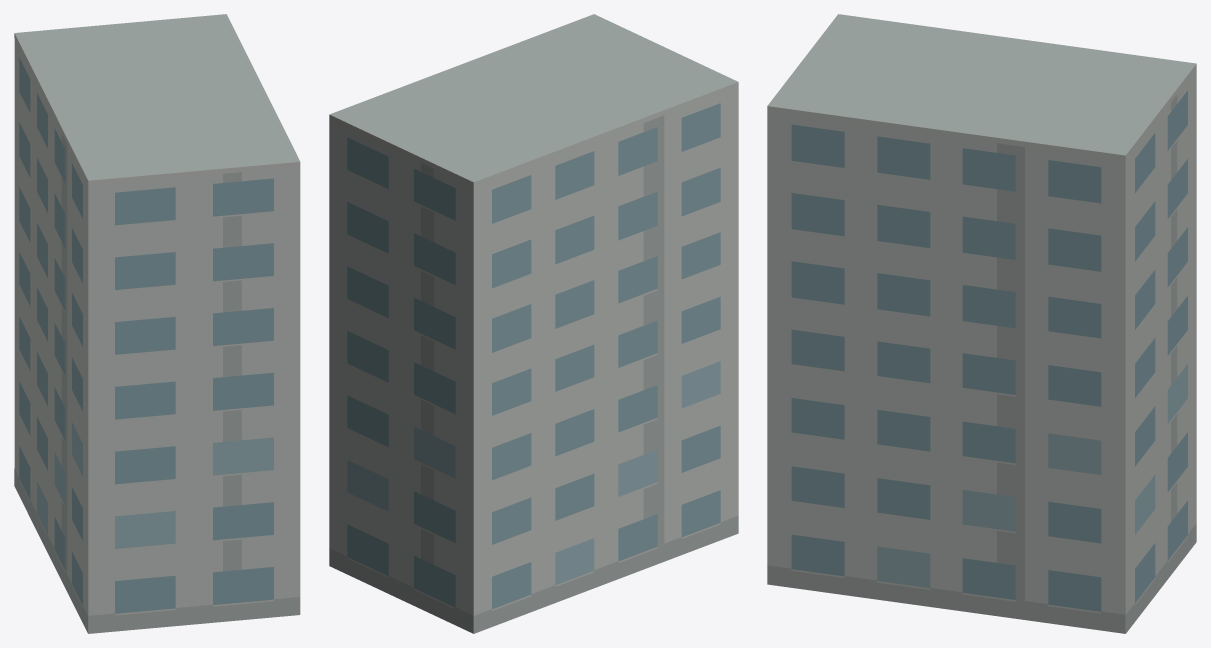
File: survey-upis-32696480.glb
The picture shows the model from 3 angles, left to right: view 1: azimuth 30°, elevation 25°; view 2: azimuth 150°, elevation 25°; view 3: azimuth 270°, elevation 25°; orthographic projection. The views are drawn at different scales.
Parts seen in each view (by area): view 1: survey-upis-32696480.tmp; view 2: survey-upis-32696480.tmp; view 3: survey-upis-32696480.tmp.
Part boxes in pixels (x1,y1,x2,y2): survey-upis-32696480.tmp: (14,14,300,633); survey-upis-32696480.tmp: (329,14,738,633); survey-upis-32696480.tmp: (767,14,1196,633).
Size of the model in its own units: 13.56 by 21.35 by 17.38.
